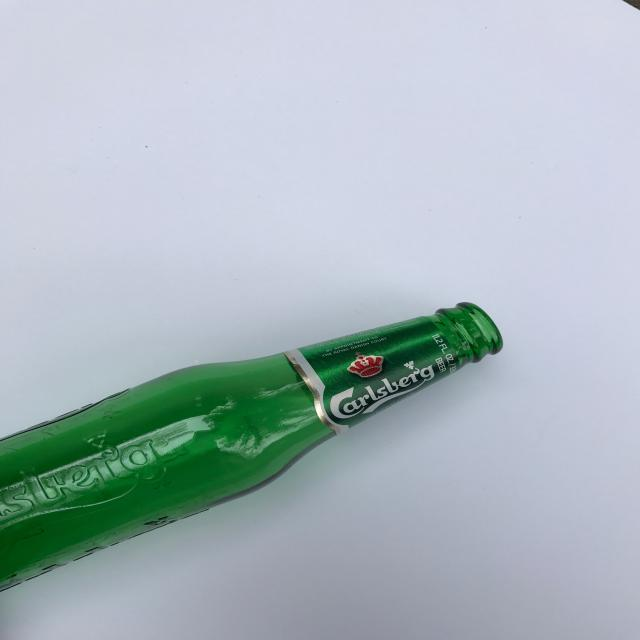glass: (0, 300, 504, 594)
